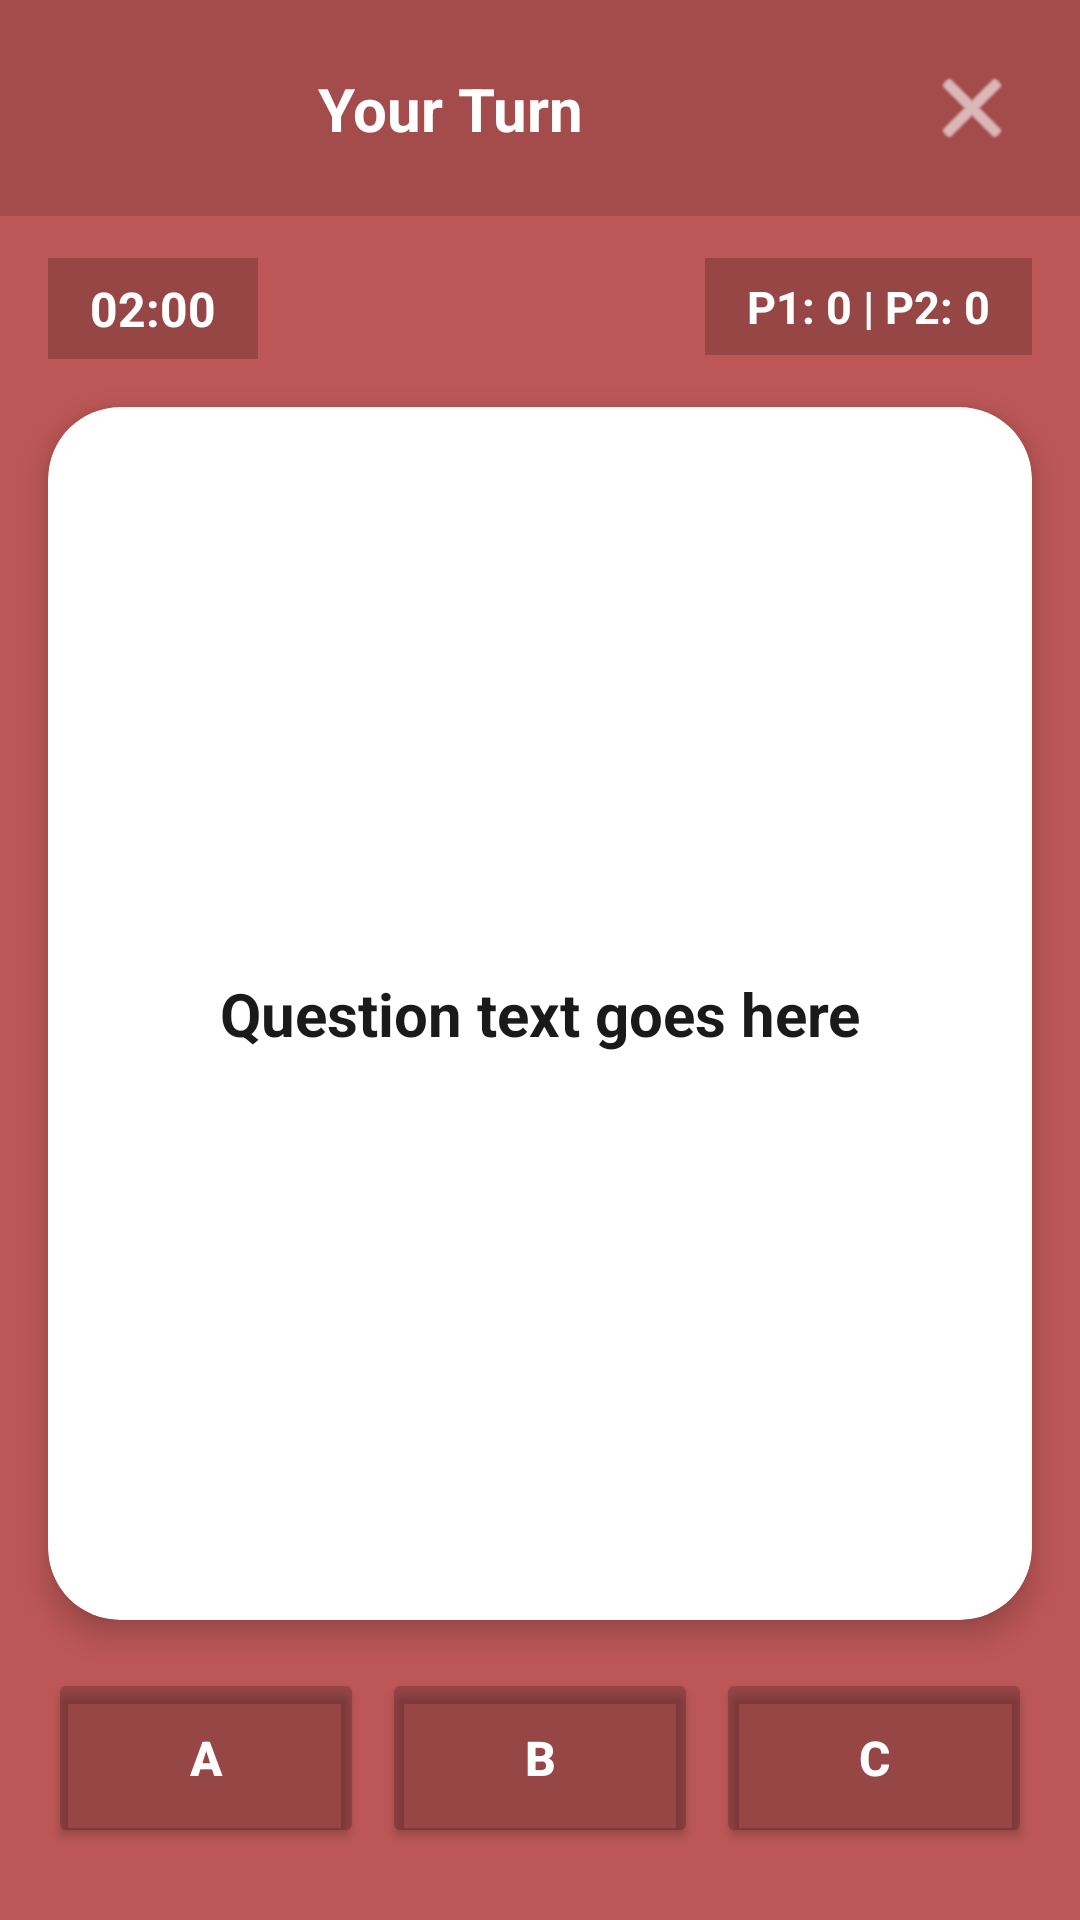

Where to tap for icons on this 1080 × 1920 app screen, as [x,y]:
Exit Game: [972,108]
